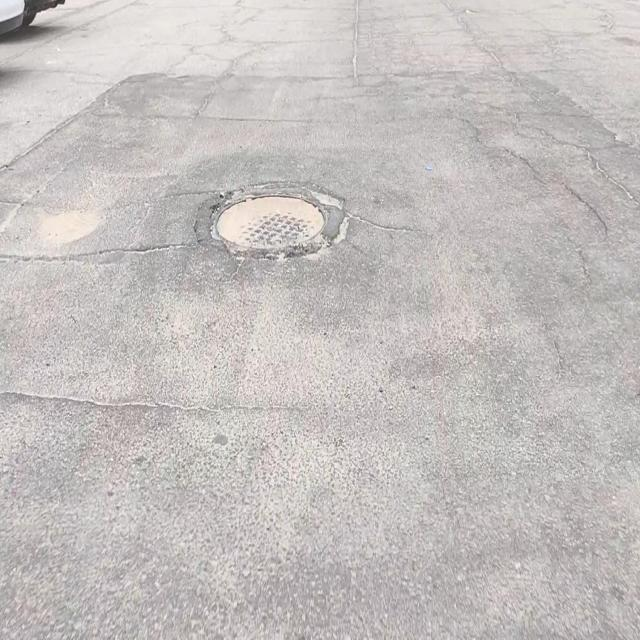Potholes: (208, 185, 330, 253)
